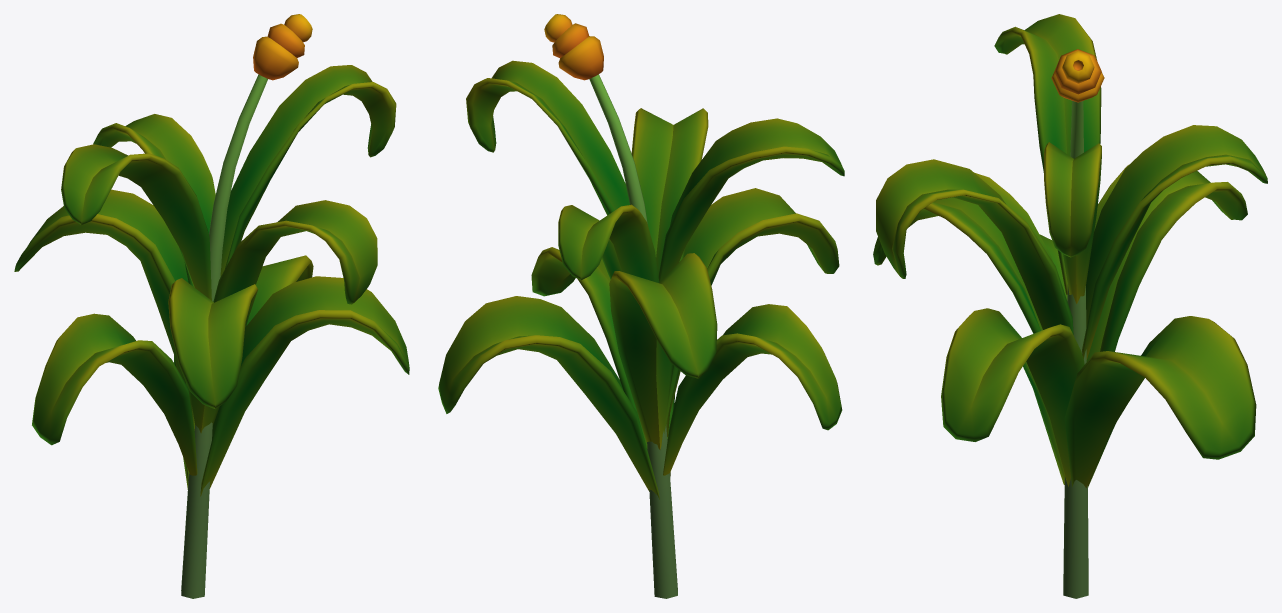
The model's file is plant_9.fbx.
3 renders of one model, left to right at view 1: azimuth 30°, elevation 25°; view 2: azimuth 150°, elevation 25°; view 3: azimuth 270°, elevation 25°, orthographic. The views are drawn at different scales.
Parts seen in each view (by area): view 1: plant_9; view 2: plant_9; view 3: plant_9.
Part boxes in pixels (x1,y1,x2,y2): plant_9: (14,14,409,598); plant_9: (438,14,844,598); plant_9: (873,14,1267,598).
Size of the model in its own units: 104 by 156 by 93.58.
